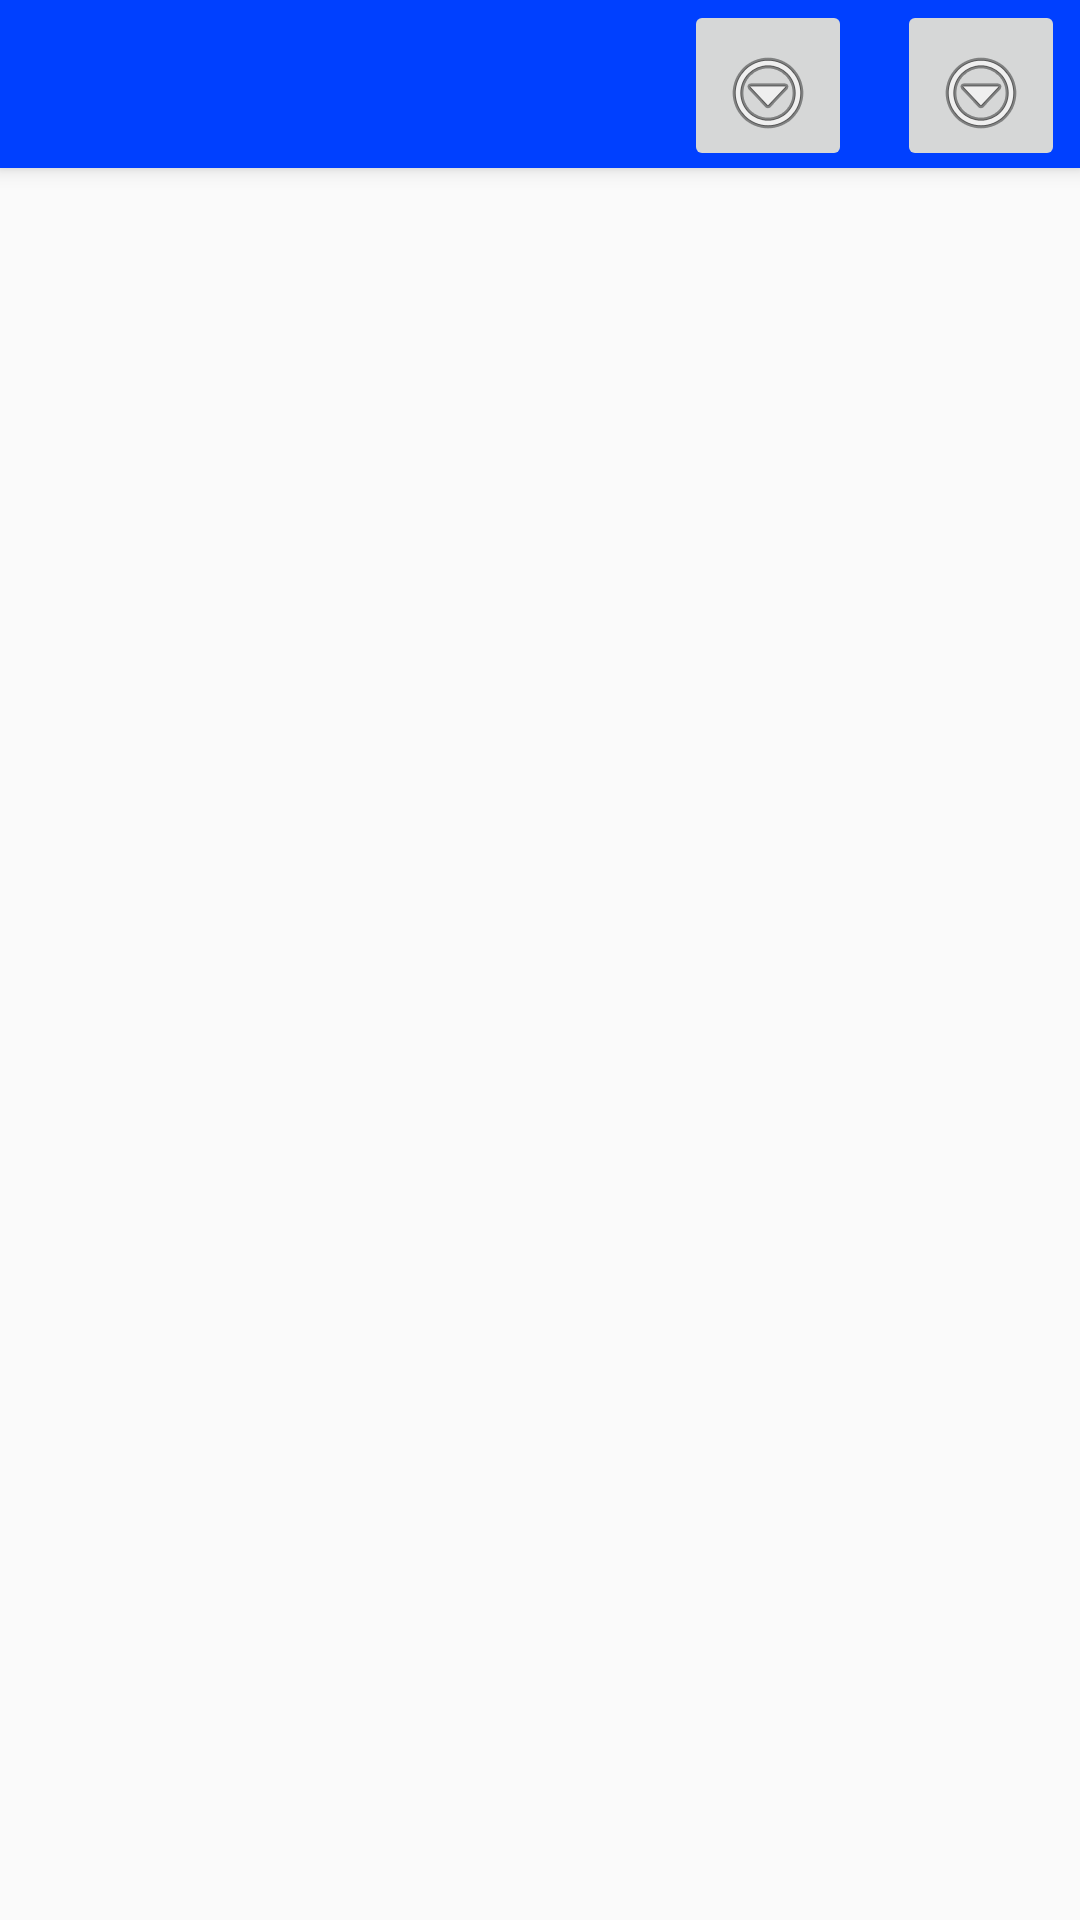

Screen size 1080 × 1920. Icon name, then its center in pixels as [x,y]:
more: [768,85], [981,85]
